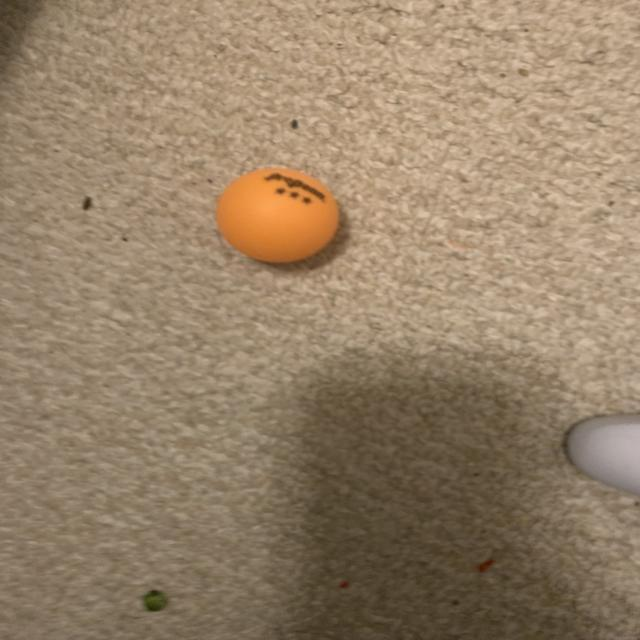ping-pong-ball: (203, 158, 347, 270)
